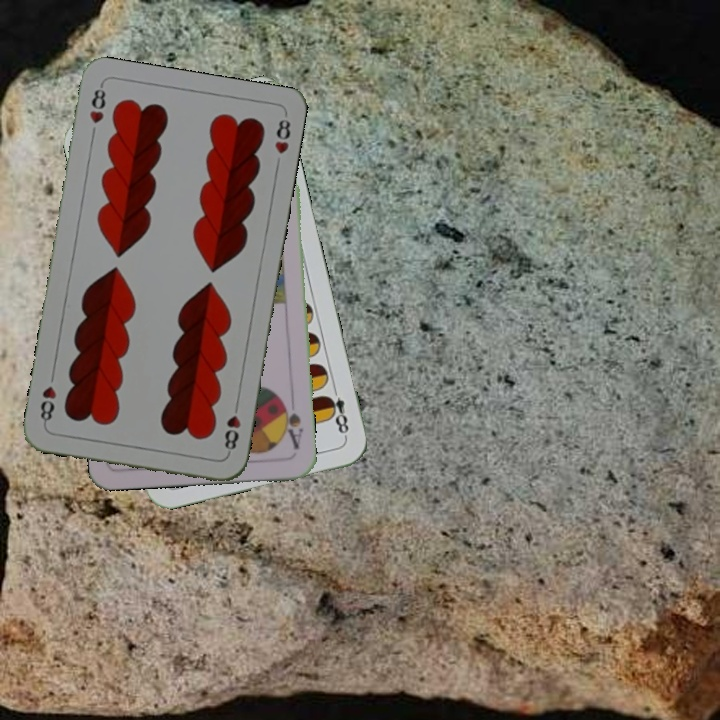E8: (322, 382, 351, 441)
H8: (220, 398, 243, 457), (85, 81, 109, 126)
SA: (278, 395, 306, 452)
